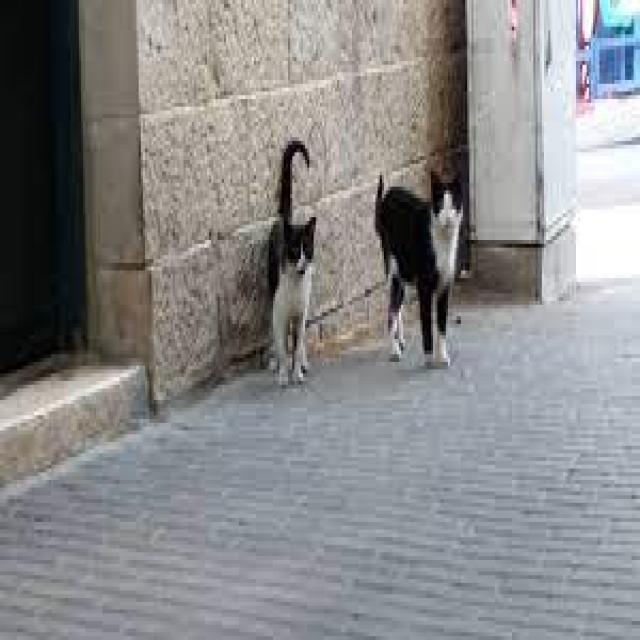cat: (375, 174, 460, 363), (270, 141, 316, 385)
